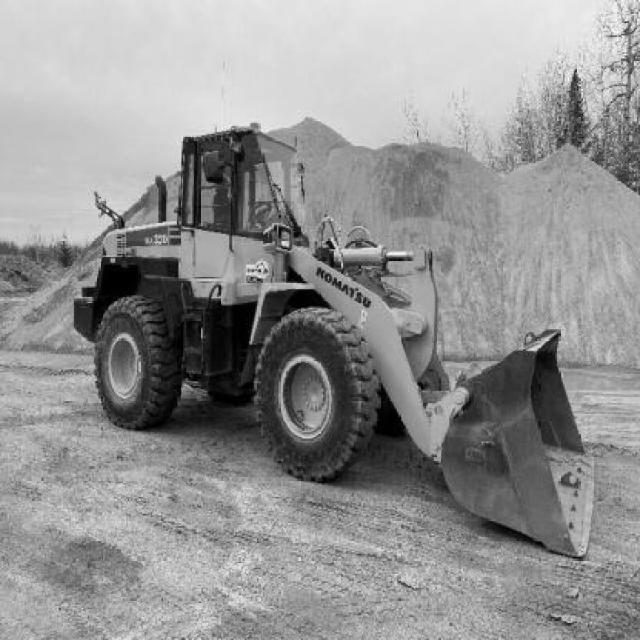Construction Equipment: (74, 120, 597, 561)
